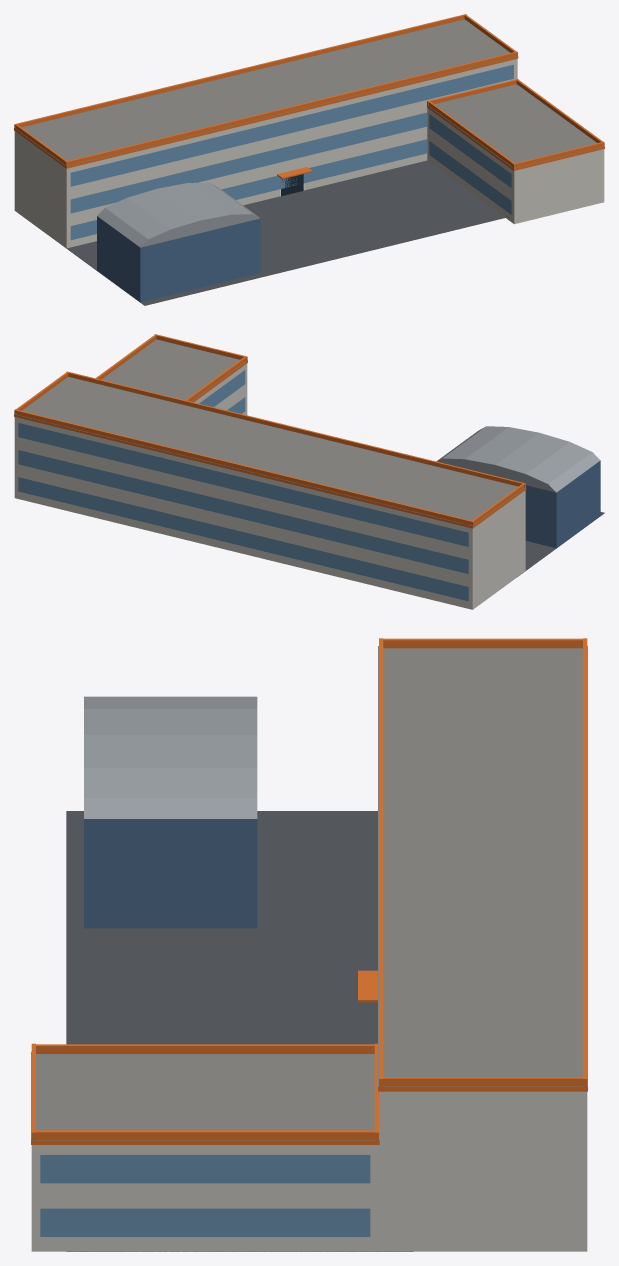
The model's file is college.glb.
The picture shows the model from 3 angles, top to bottom: view 1: azimuth 30°, elevation 25°; view 2: azimuth 150°, elevation 25°; view 3: azimuth 270°, elevation 25°; orthographic projection. The views are drawn at different scales.
Visible parts, largest first — view 1: college; view 2: college; view 3: college.
Boxes of the visible parts, bbox=[...] form: college: bbox=[14, 14, 604, 305]; college: bbox=[14, 334, 604, 609]; college: bbox=[31, 638, 587, 1251].
Size of the model in its own units: 60.1 by 11 by 32.1.
Materials: 1 (1 with a texture image).
